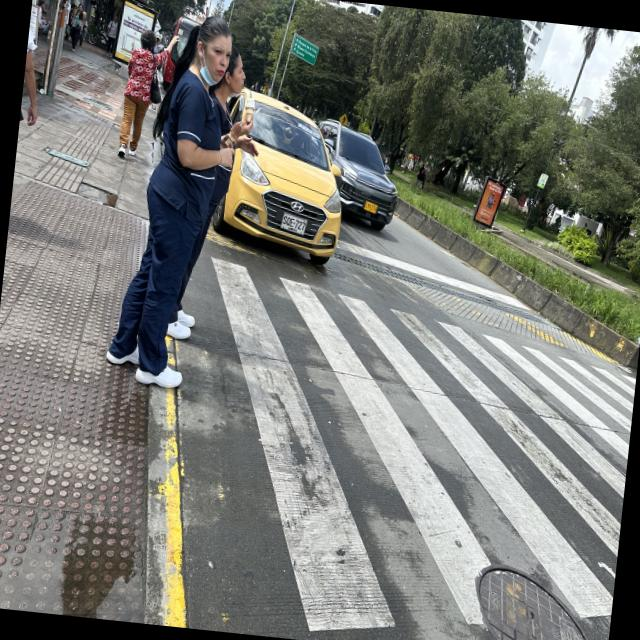number plate: (280, 212, 306, 234), (363, 200, 378, 214)
